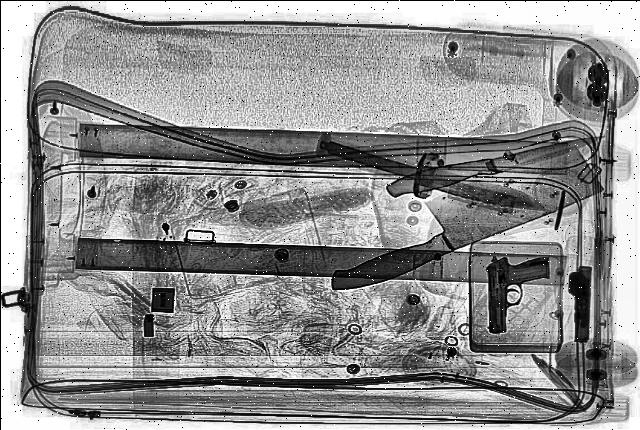Gun: (484, 254, 552, 332), (566, 264, 592, 340)
Knife: (294, 142, 618, 296), (318, 136, 554, 218), (382, 120, 610, 200)
